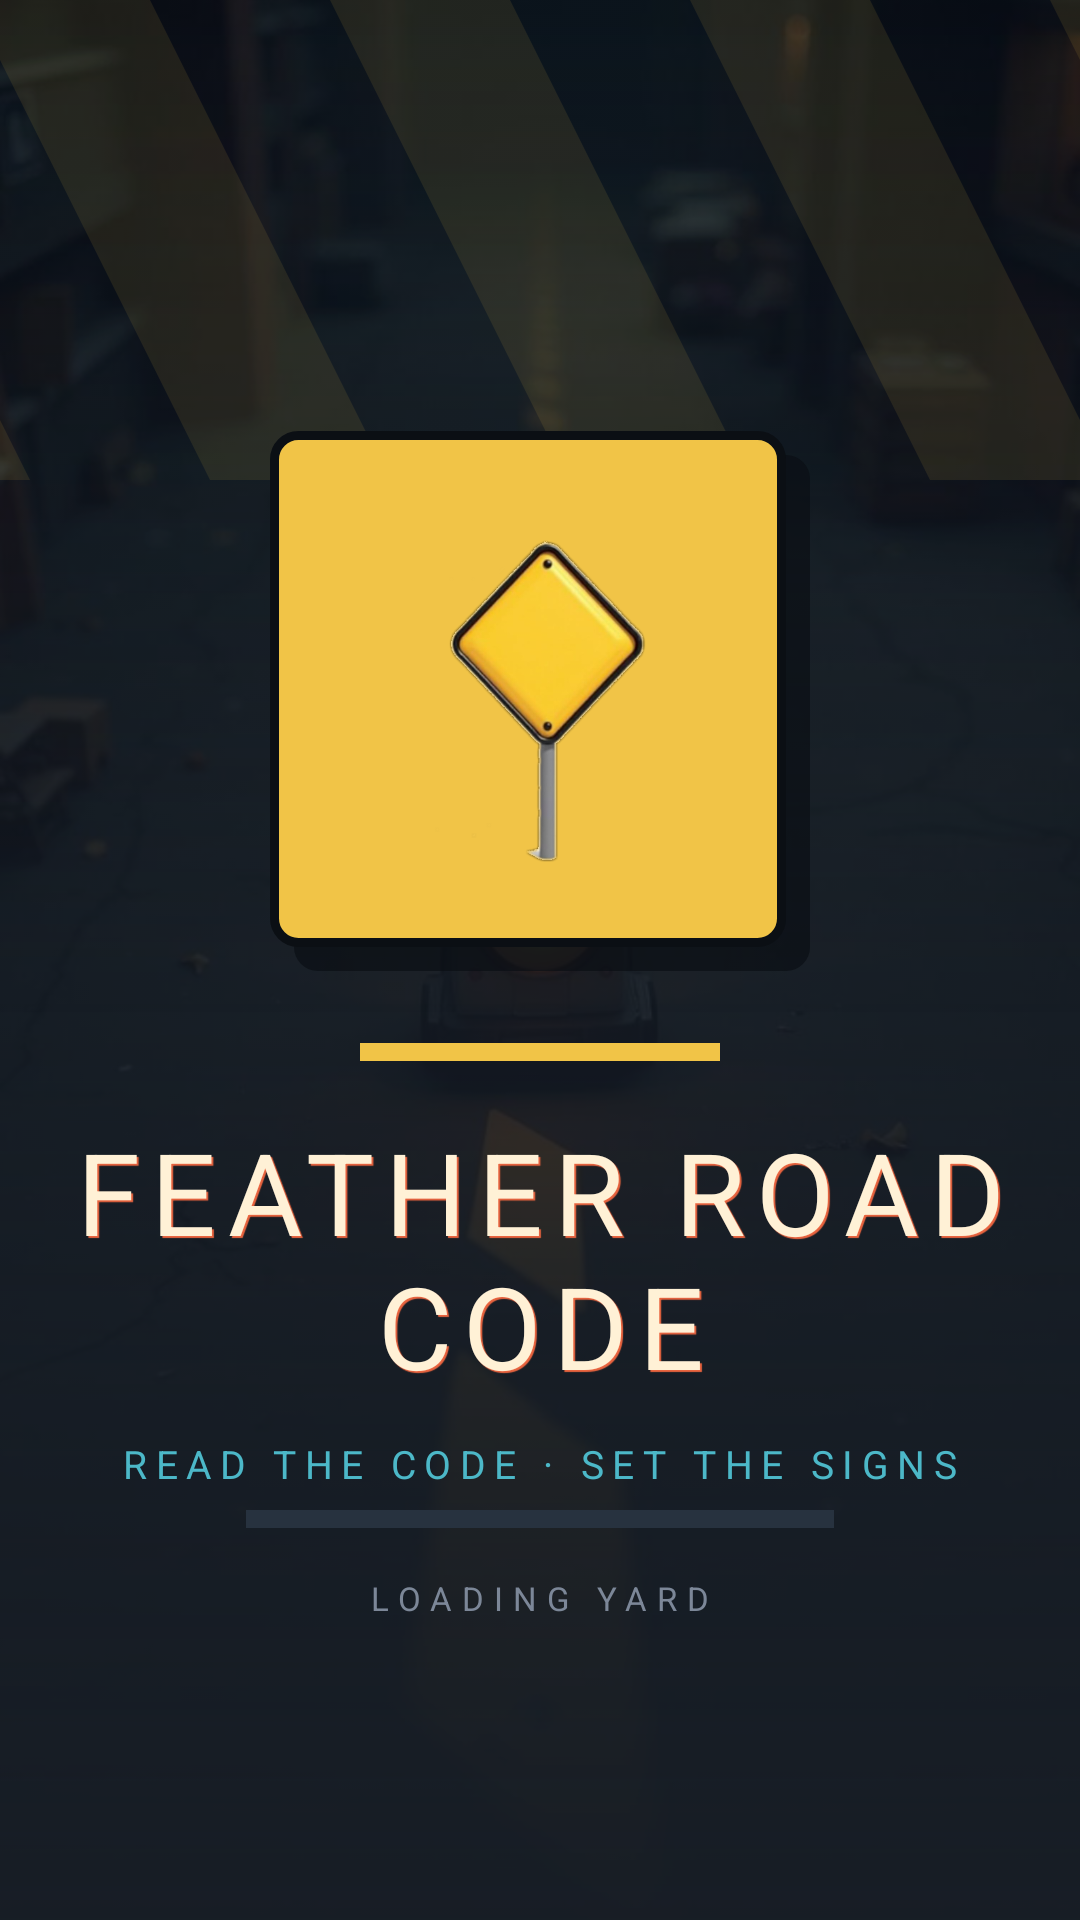

Point at icon controls on the screen. Image size 1080 × 1920, points as [x,y].
Route sign emblem: [547,701]
